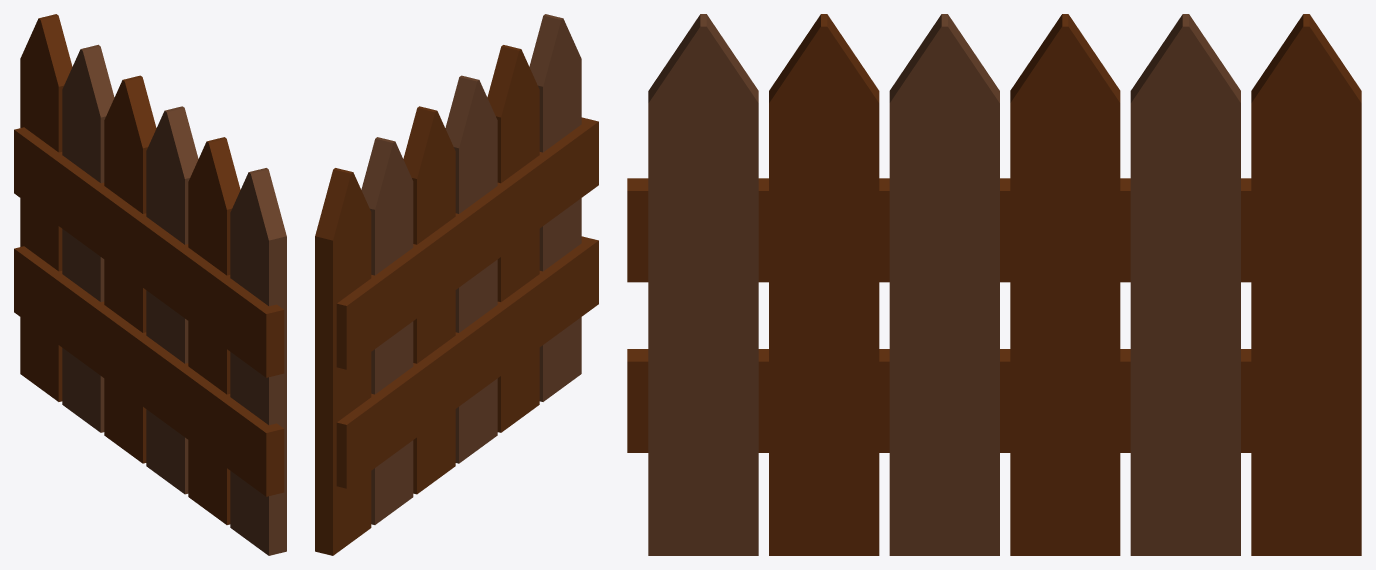
File: fence_04.fbx
3 renders of one model, left to right at view 1: azimuth 30°, elevation 25°; view 2: azimuth 150°, elevation 25°; view 3: azimuth 270°, elevation 25°, orthographic. The views are drawn at different scales.
Parts seen in each view (by area): view 1: fence_04; view 2: fence_04; view 3: fence_04.
Boxes of the visible parts, <box> form: fence_04: <box>14,14,286,555</box>; fence_04: <box>315,14,598,555</box>; fence_04: <box>627,14,1361,555</box>.
Size of the model in its own units: 11.52 by 145 by 183.
1 material, 1 textured.
